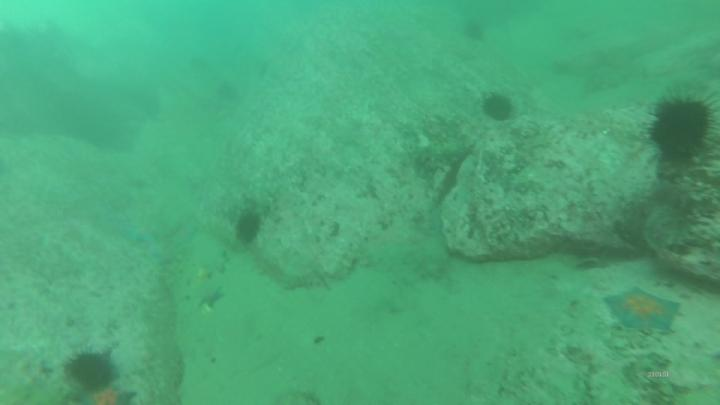echinus: (652, 100, 711, 164), (68, 353, 116, 391), (234, 215, 260, 242), (486, 95, 511, 119)
starfish: (603, 287, 680, 334), (201, 285, 226, 310), (126, 225, 154, 244), (151, 245, 176, 264)
